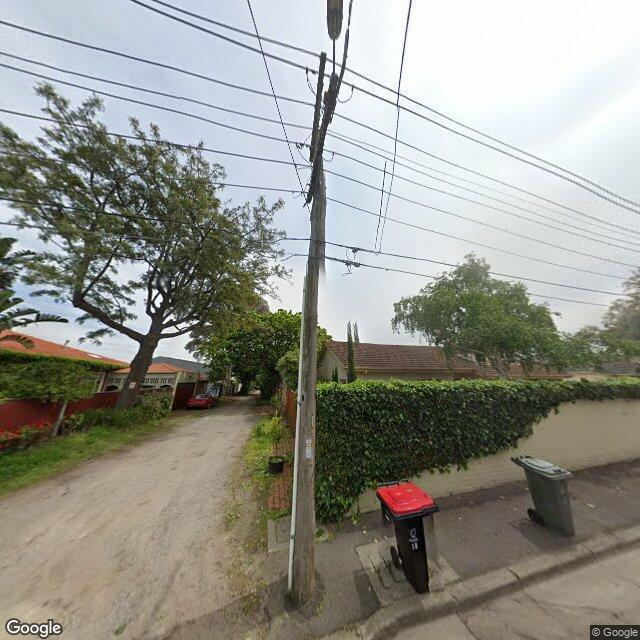crossarm: (307, 73, 337, 204), (310, 50, 326, 163)
streetlight: (326, 0, 342, 73)
timber-pole: (292, 158, 326, 605)
